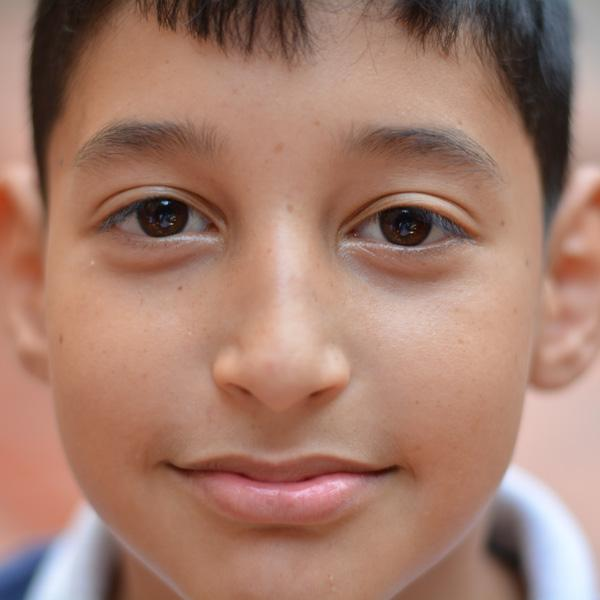Eyes: (81, 174, 236, 271), (331, 180, 485, 274)
